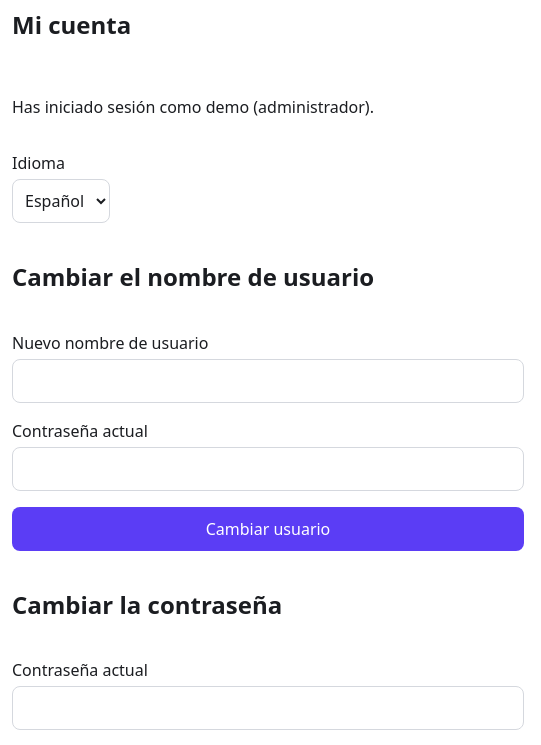
AccountView › cambia el nombre de usuario y actualiza la sesión
Step 1. Type "nuevo" into the field labelled "Nuevo nombre de usuario" → (268, 381), box [12,359,524,403]
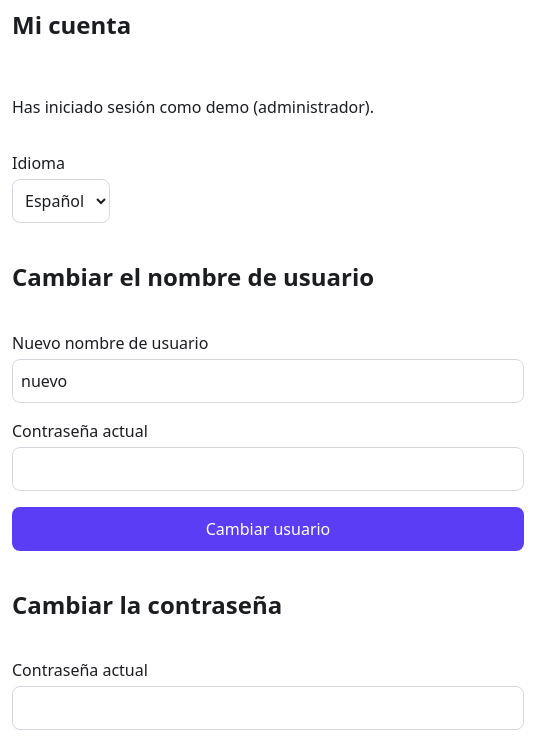
Step 2. Type "secreta" into the password field labelled "Contraseña actual" below "Nuevo nombre de usuario" → (268, 469), box [12,447,524,491]
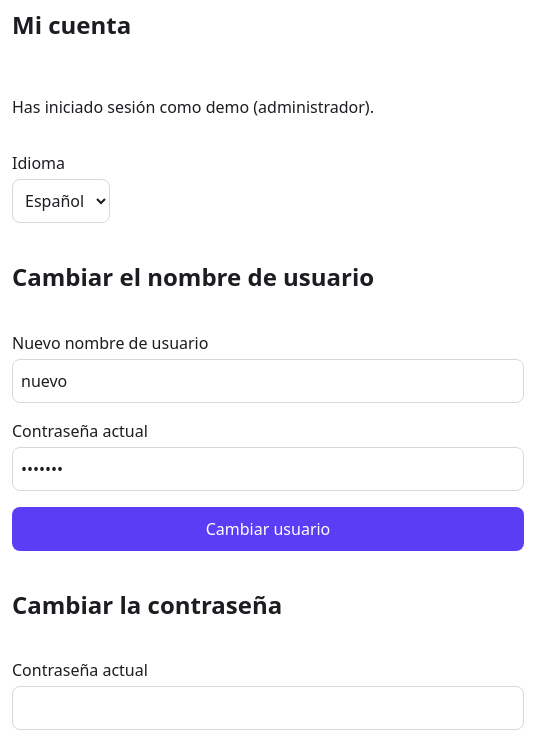
Step 3. Submit the form named "username", box [12,239,524,551]
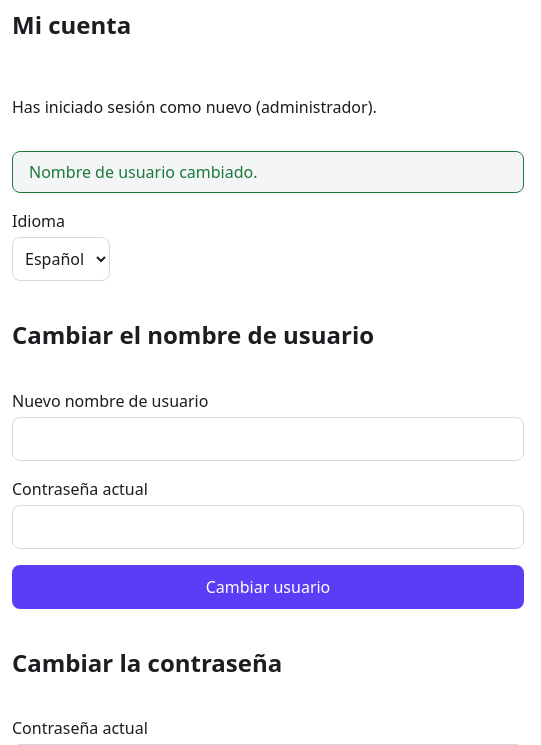
Result: the message "Nombre de usuario cambiado." is shown at [12,151,524,193]
